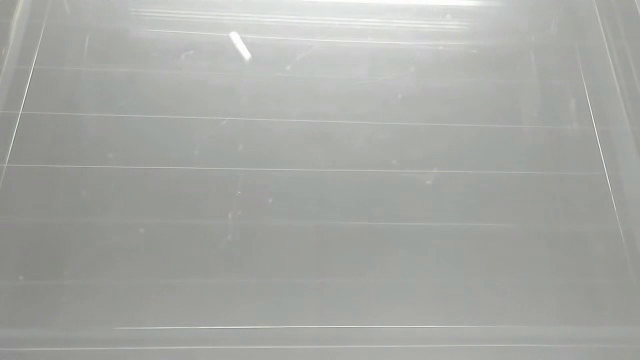alpha: (226, 28, 256, 63)
